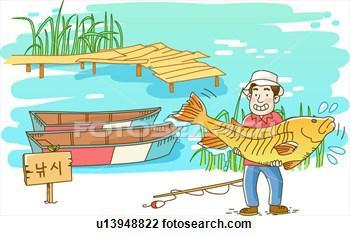boat: (19, 123, 184, 168), (21, 106, 158, 129)
person: (227, 65, 291, 216)
